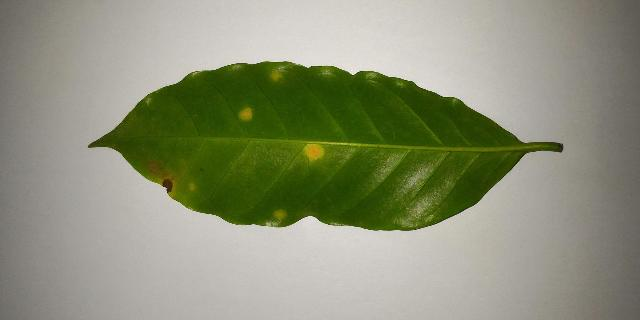miner: (150, 176, 178, 201), (303, 141, 330, 163), (274, 210, 286, 221), (240, 108, 251, 120), (270, 71, 281, 82), (189, 183, 195, 191)
